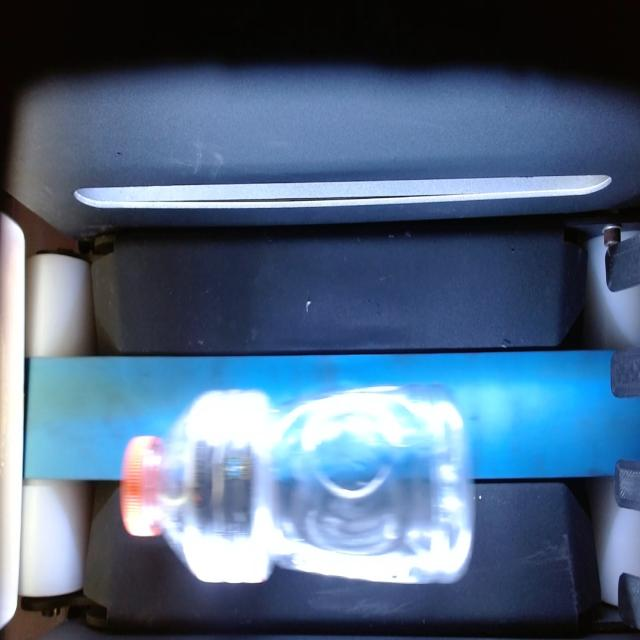bottom: (414, 377, 479, 579)
cap: (119, 420, 173, 542)
